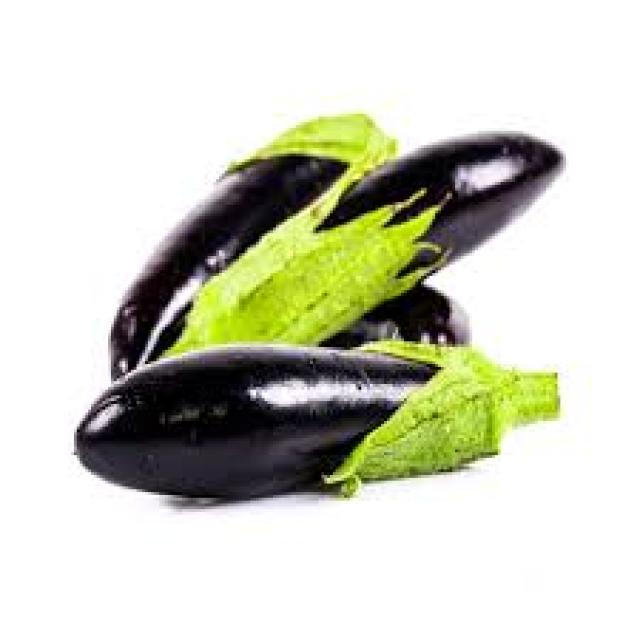eggplant: (202, 131, 560, 350), (71, 341, 558, 495)
